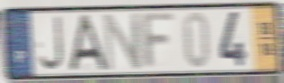0: (180, 10, 212, 71)
4: (218, 9, 251, 70)
A: (68, 13, 109, 73)
F: (140, 10, 178, 73)
J: (37, 14, 66, 73)
N: (103, 11, 145, 74)
